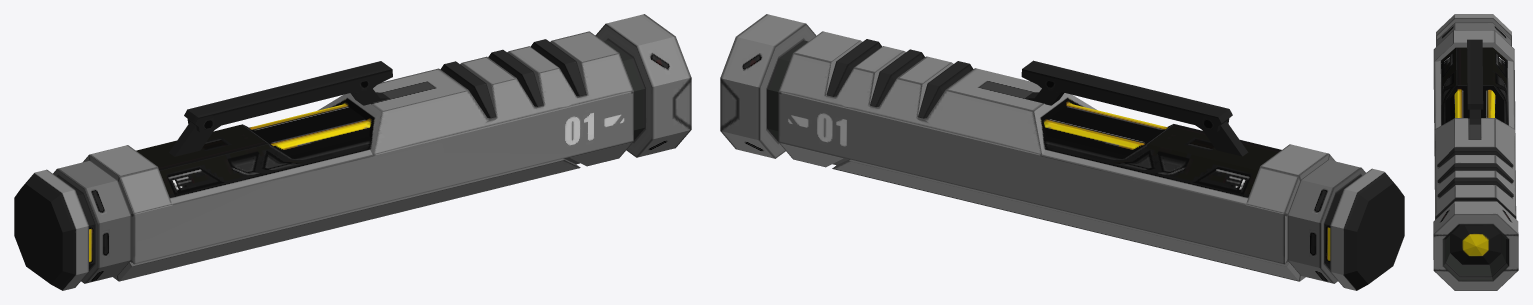
The model's file is E1SleeveMd030011.fbx.
The picture shows the model from 3 angles, left to right: view 1: azimuth 30°, elevation 25°; view 2: azimuth 150°, elevation 25°; view 3: azimuth 270°, elevation 25°; orthographic projection. The views are drawn at different scales.
Visible parts, largest first — view 1: E1SleeveMd030011; view 2: E1SleeveMd030011; view 3: E1SleeveMd030011.
Boxes of the visible parts, bbox=[...] form: E1SleeveMd030011: bbox=[14, 14, 691, 290]; E1SleeveMd030011: bbox=[720, 14, 1404, 290]; E1SleeveMd030011: bbox=[1433, 14, 1518, 290].
Bounding box in the file's own units: 1.3 × 0.2767 × 0.2238.
1 material, 1 textured.
